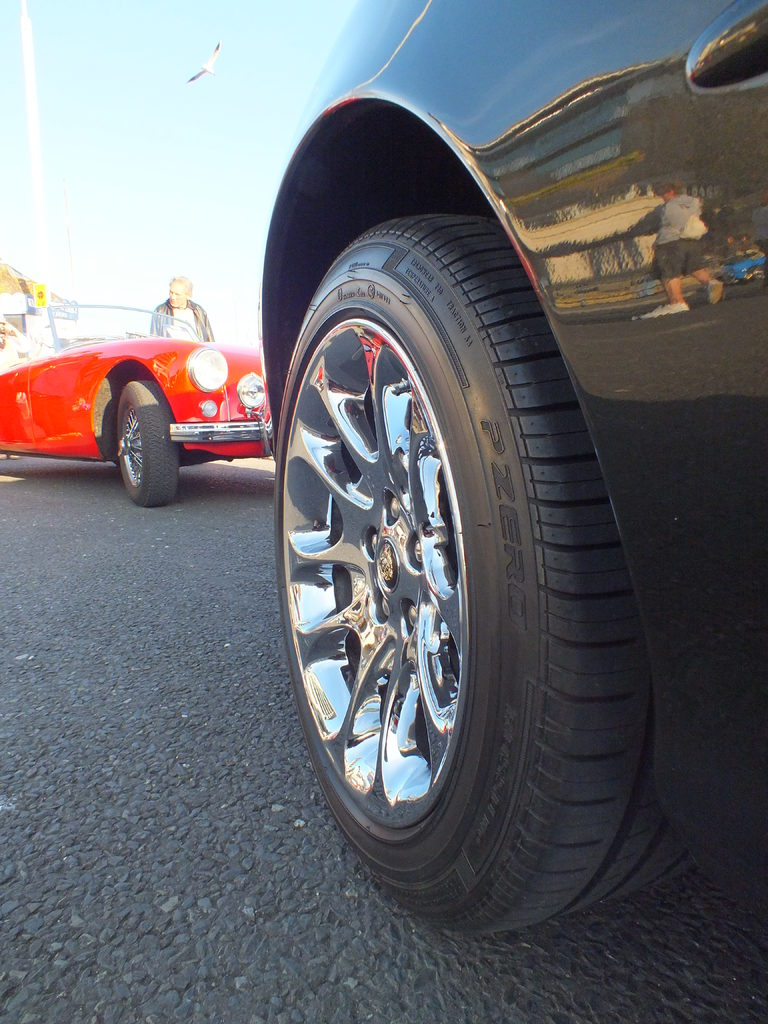Car: (262, 0, 767, 936), (0, 298, 271, 504)
